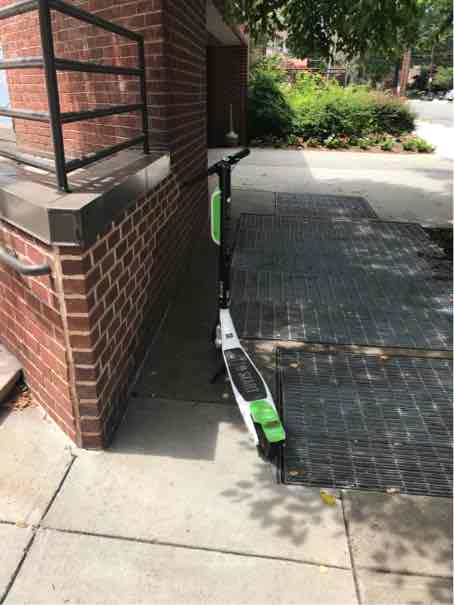scooter: (180, 146, 298, 470)
